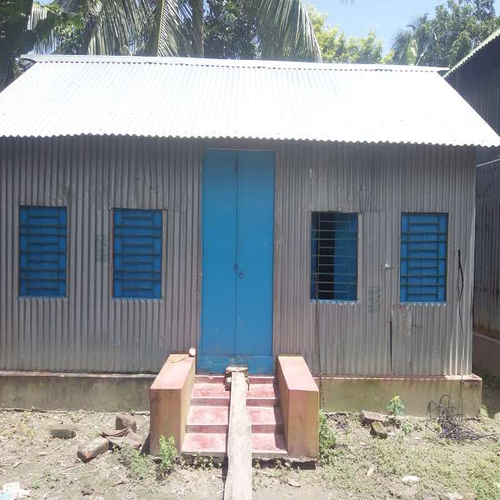Tin-shade House: (7, 42, 476, 396)
